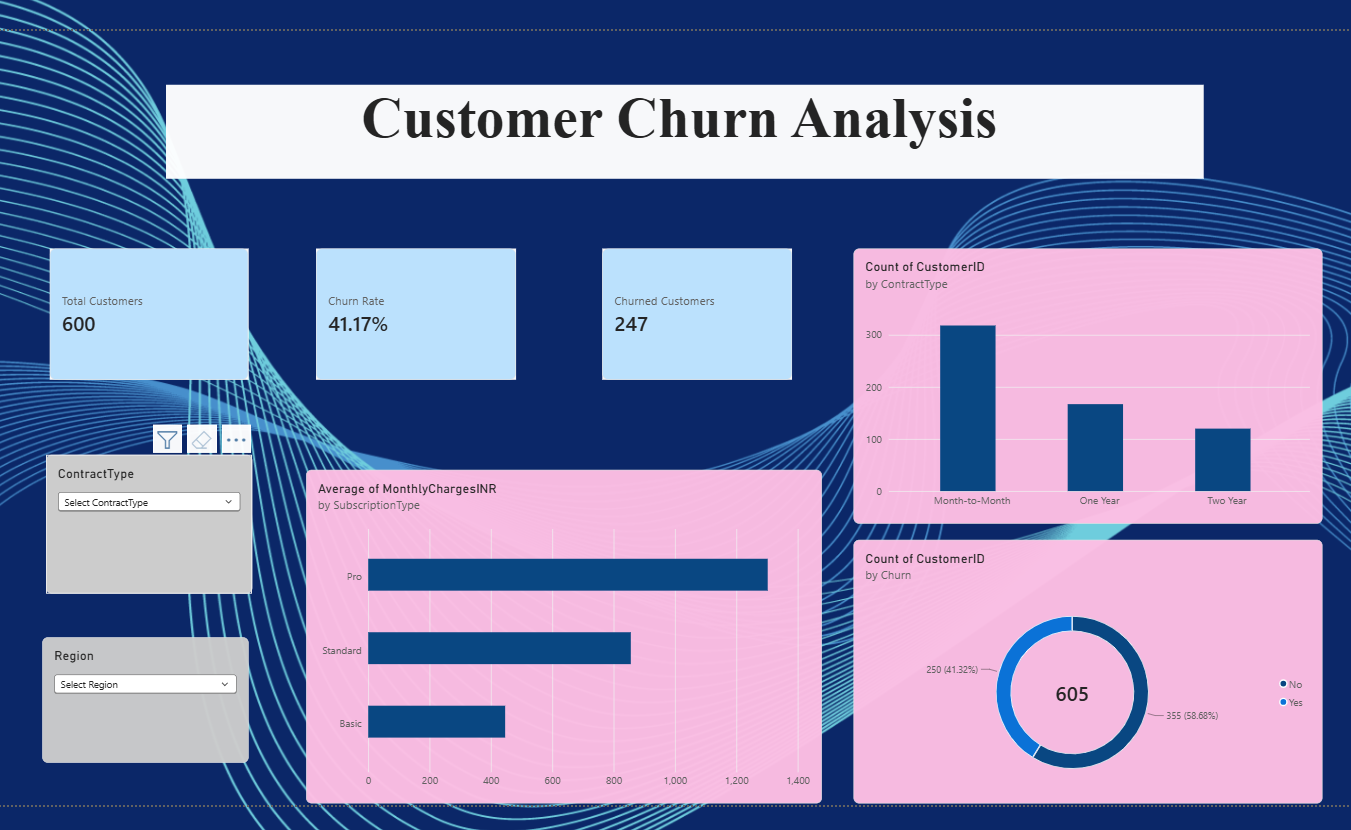

What the dashboard file says about the page in this screenshot:
{"tool":"powerbi","page":{"name":"Customer Churn Analysis","canvas":[1920,1080],"ordinal":1},"visuals":[{"type":"donutChart","fields":{"Category":["customer_churn.Churn"],"Y":["CountNonNull(customer_churn.CustomerID)"]},"box":[1210.5,709.9,654.1,368],"z":0},{"type":"clusteredColumnChart","fields":{"Category":["customer_churn.ContractType"],"Y":["CountNonNull(customer_churn.CustomerID)"]},"box":[1210.5,303.5,654.1,383.7],"z":1000},{"type":"clusteredBarChart","fields":{"Category":["customer_churn.SubscriptionType"],"Y":["Avg(customer_churn.MonthlyChargesINR)"]},"box":[446.5,612.2,720.4,465.7],"z":2000},{"type":"cardVisual","fields":{"Data":["checkout_ab_test.Total Customers"]},"box":[89,303.5,277.3,183.1],"z":3000},{"type":"cardVisual","fields":{"Data":["checkout_ab_test.Churned Customers"]},"box":[859.9,303.5,265.1,183.1],"z":4000},{"type":"cardVisual","fields":{"Data":["checkout_ab_test.Churn Rate"]},"box":[460.5,303.5,279.1,183.1],"z":5000},{"type":"listSlicer","fields":{"Values":["customer_churn.Region"]},"box":[78.5,845.9,288.2,175],"z":6000},{"type":"listSlicer","fields":{"Values":["customer_churn.ContractType"]},"box":[83.7,591.3,288.2,193.5],"z":7000},{"type":"textbox","box":[251.2,75,1447.7,130.8],"z":7001}]}

Visuals, with their boxes in screenshot pixels (x1, y1, x2, y2):
donutChart - customer_churn.Churn x CountNonNull(customer_churn.CustomerID): [850, 539, 1320, 804]
clusteredColumnChart - customer_churn.ContractType x CountNonNull(customer_churn.CustomerID): [850, 246, 1320, 523]
clusteredBarChart - customer_churn.SubscriptionType x Avg(customer_churn.MonthlyChargesINR): [300, 469, 818, 804]
cardVisual - checkout_ab_test.Total Customers: [43, 246, 242, 378]
cardVisual - checkout_ab_test.Churned Customers: [598, 246, 788, 378]
cardVisual - checkout_ab_test.Churn Rate: [310, 246, 511, 378]
listSlicer - customer_churn.Region: [35, 637, 243, 763]
listSlicer - customer_churn.ContractType: [39, 454, 246, 593]
textbox: [160, 82, 1201, 176]
